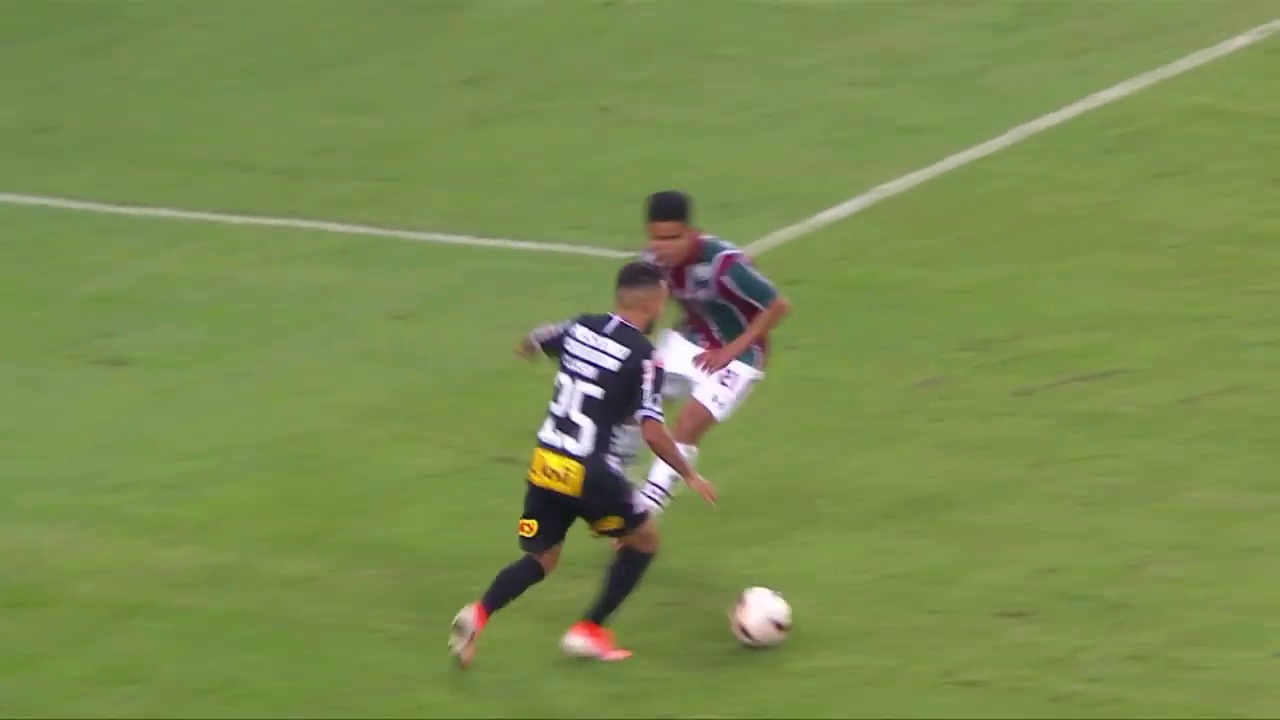ball: (728, 583, 795, 652)
player: (444, 260, 721, 672), (614, 189, 794, 513)
